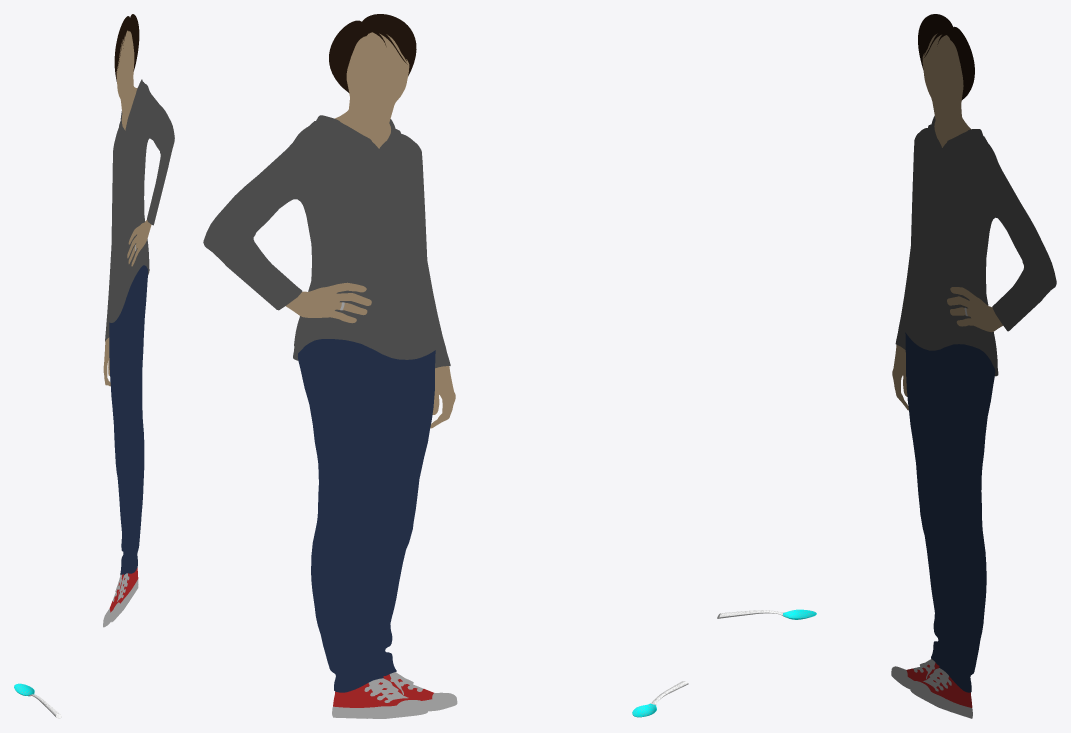
The model's file is spoon_06_origin_gt_3.dae.
3 renders of one model, left to right at view 1: azimuth 30°, elevation 25°; view 2: azimuth 150°, elevation 25°; view 3: azimuth 270°, elevation 25°, orthographic. The views are drawn at different scales.
Parts seen in each view (by area): view 1: Stacy (×7); view 2: Stacy (×8); view 3: Stacy (×8).
Part boxes in pixels (x1,y1,x2,y2): Stacy (×7): (103, 14, 174, 627); Stacy (×8): (203, 14, 457, 718); Stacy (×8): (891, 14, 1056, 718).
Bounding box in the file's own units: 31.12 × 29.08 × 65.72.
